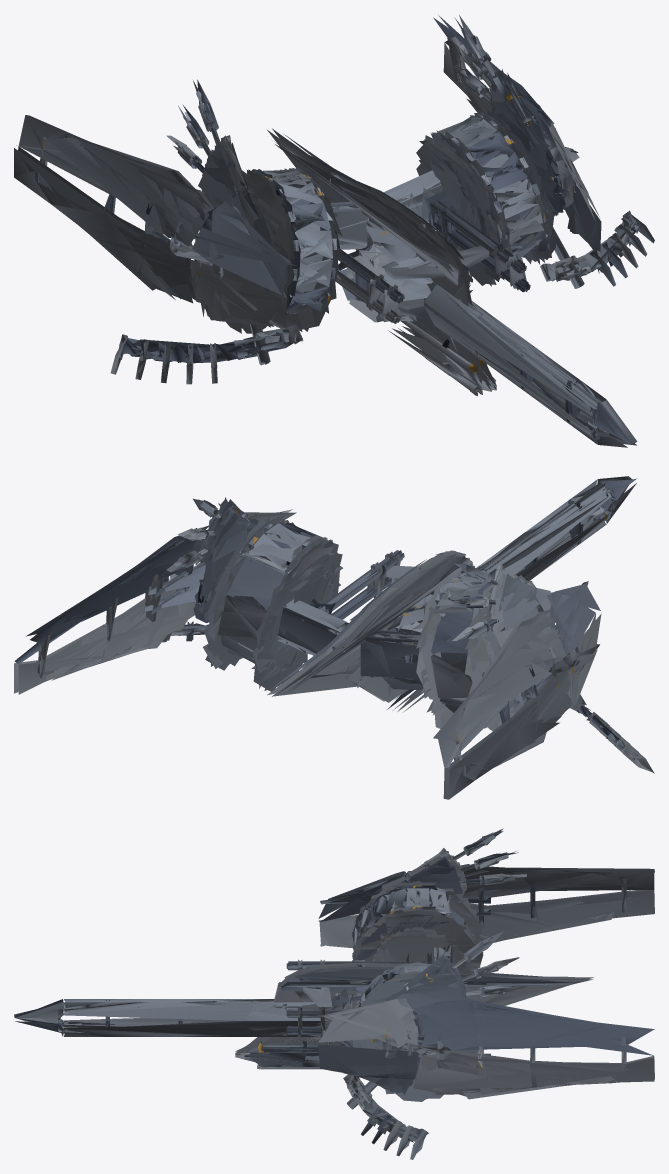
Rendered from ikaruga.glb.
3 views of the same model, one above another, from view 1: azimuth 30°, elevation 25°; view 2: azimuth 150°, elevation 25°; view 3: azimuth 270°, elevation 25° (orthographic). The views are drawn at different scales.
Visible parts, largest first — view 1: ikaruga; view 2: ikaruga; view 3: ikaruga.
Part boxes in pixels (x1,y1,x2,y2): ikaruga: (14, 15, 654, 447); ikaruga: (14, 476, 654, 799); ikaruga: (14, 828, 654, 1159).
Size of the model in its own units: 0.7823 by 0.325 by 1.
